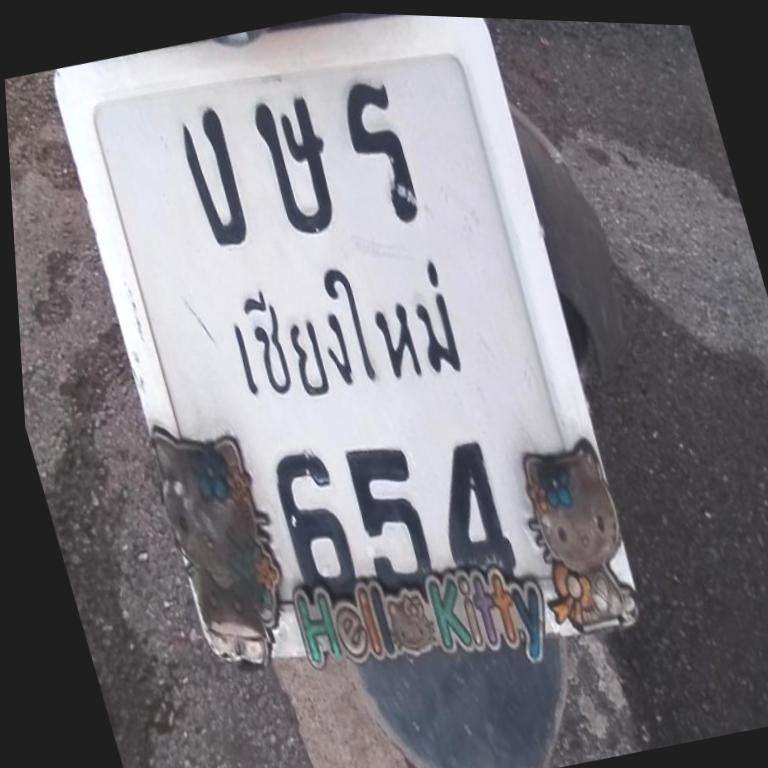license plate: (31, 1, 671, 726)
